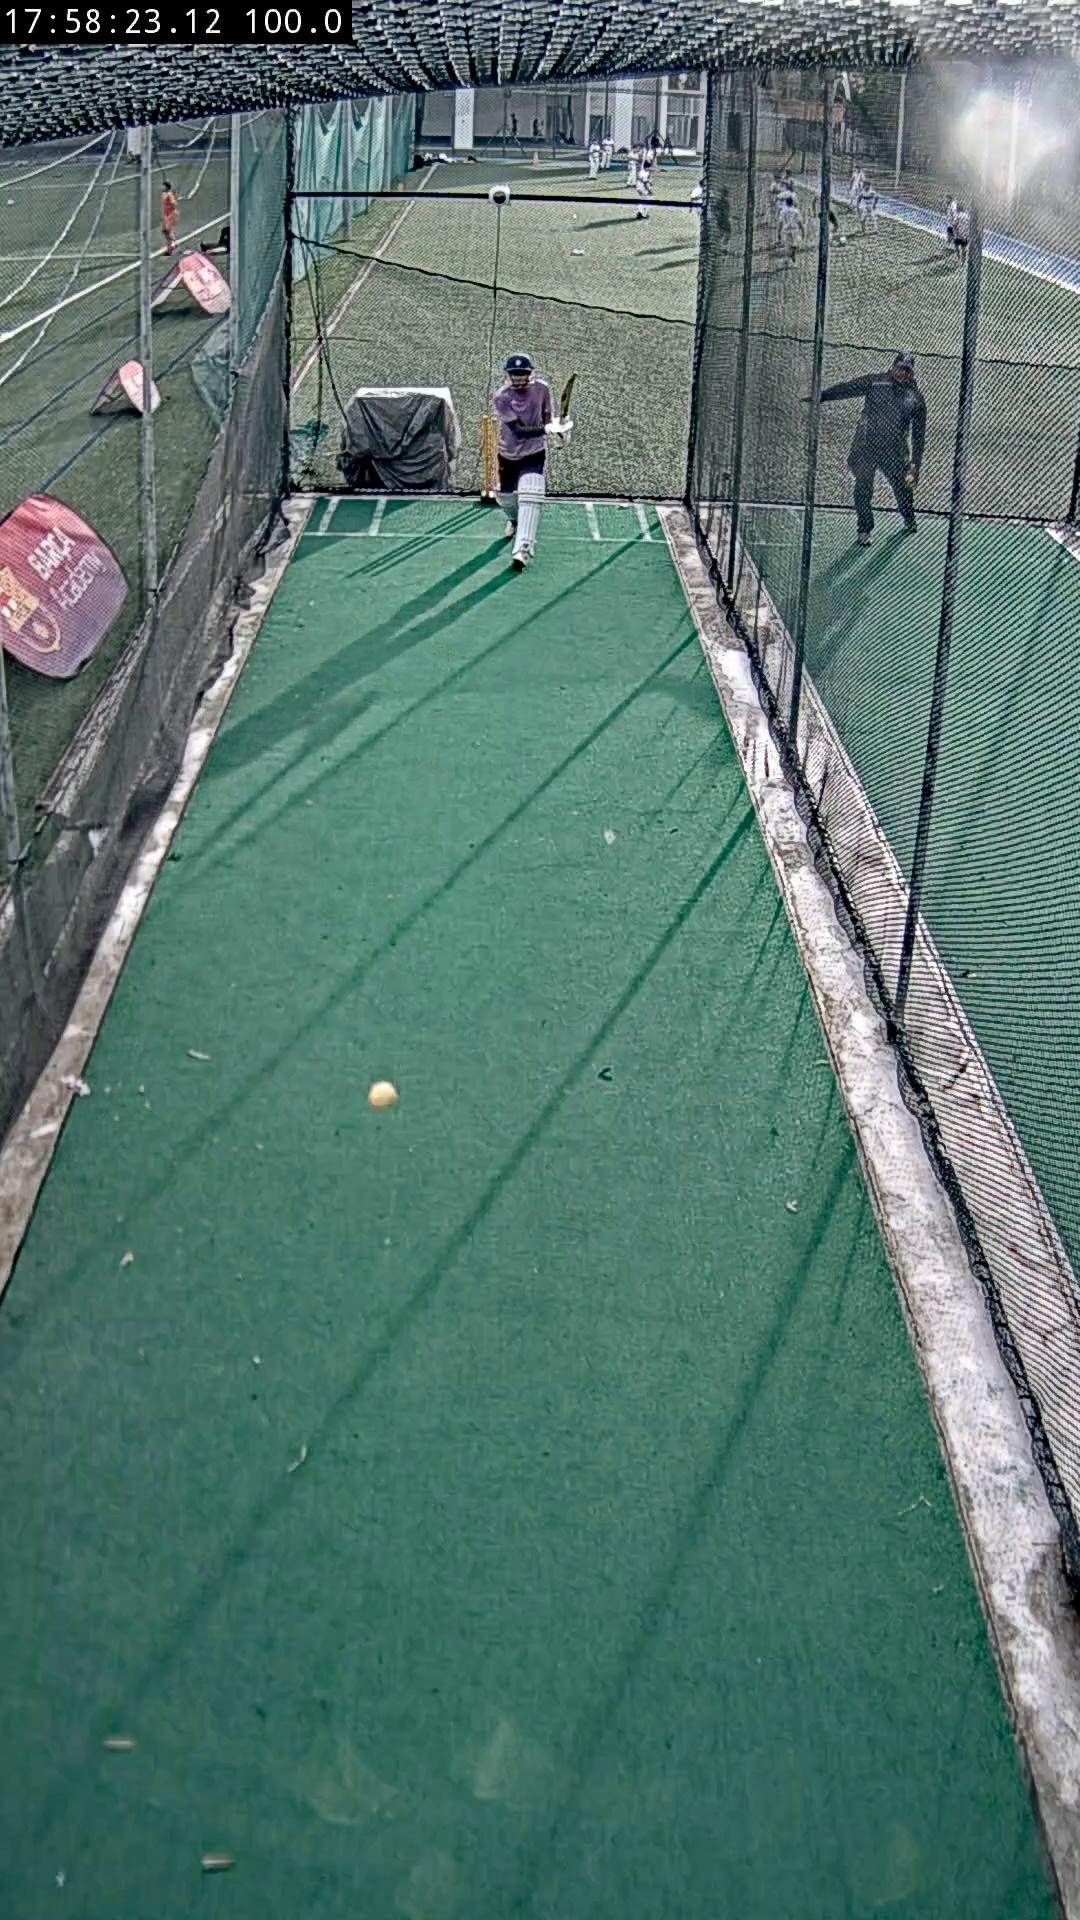ball: (368, 1080, 397, 1110)
bat: (559, 372, 578, 418)
gloves: (543, 413, 574, 448)
helmet: (502, 352, 533, 375)
pads: (514, 472, 547, 555), (495, 492, 517, 521)
stumps: (480, 417, 498, 493)
